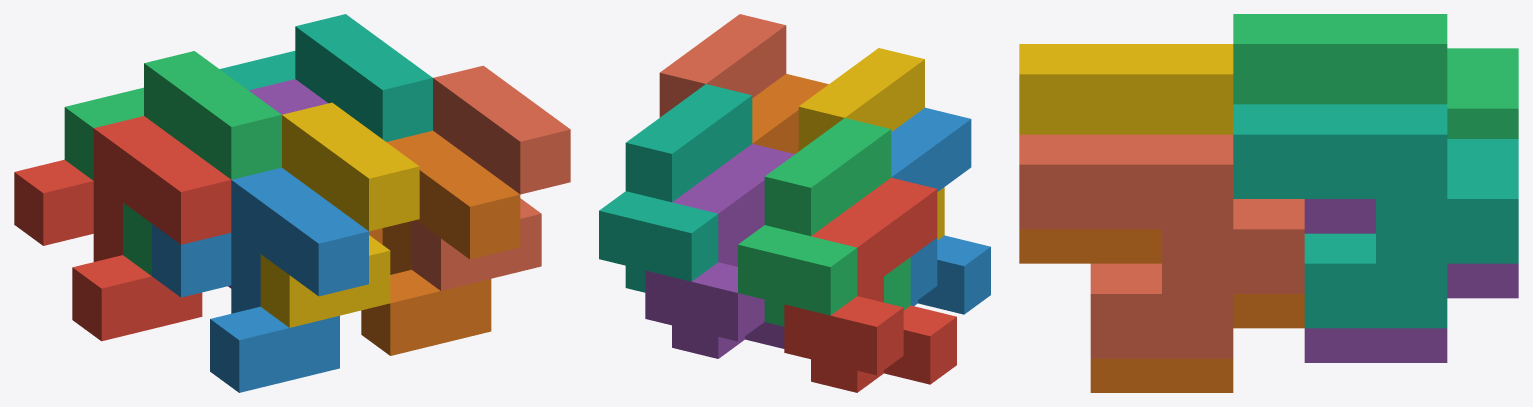
File: tiling.obj
3 views of the same model, side by side, from view 1: azimuth 30°, elevation 25°; view 2: azimuth 150°, elevation 25°; view 3: azimuth 270°, elevation 25° (orthographic). The views are drawn at different scales.
Visible parts, largest first — view 1: copy_1_domain_1, copy_1_domain_2, copy_1_domain_6, copy_1_domain_8, copy_1_domain_4, copy_1_domain_3, copy_1_domain_7, copy_1_domain_5; view 2: copy_1_domain_1, copy_1_domain_3, copy_1_domain_7, copy_1_domain_5, copy_1_domain_2, copy_1_domain_4, copy_1_domain_8, copy_1_domain_6; view 3: copy_1_domain_7, copy_1_domain_8, copy_1_domain_3, copy_1_domain_4, copy_1_domain_6, copy_1_domain_5.
Boxes of the visible parts, x1,y1,x2,y2 form: copy_1_domain_1: (14, 116, 231, 341); copy_1_domain_2: (152, 167, 368, 392); copy_1_domain_6: (361, 130, 520, 355); copy_1_domain_8: (411, 65, 570, 290); copy_1_domain_4: (260, 102, 419, 327); copy_1_domain_3: (64, 51, 281, 275); copy_1_domain_7: (220, 14, 432, 141); copy_1_domain_5: (228, 79, 328, 288); copy_1_domain_1: (784, 177, 956, 392); copy_1_domain_3: (738, 118, 910, 326); copy_1_domain_7: (599, 84, 752, 292); copy_1_domain_5: (645, 144, 794, 358); copy_1_domain_2: (891, 107, 990, 314); copy_1_domain_4: (798, 48, 944, 240); copy_1_domain_8: (659, 14, 786, 117); copy_1_domain_6: (752, 73, 828, 153); copy_1_domain_7: (1233, 104, 1518, 328); copy_1_domain_8: (1019, 134, 1304, 358); copy_1_domain_3: (1233, 14, 1518, 138); copy_1_domain_4: (1019, 44, 1233, 134); copy_1_domain_6: (1019, 229, 1304, 392); copy_1_domain_5: (1304, 199, 1518, 362).
Size of the model in its own units: 7 by 4 by 7.
